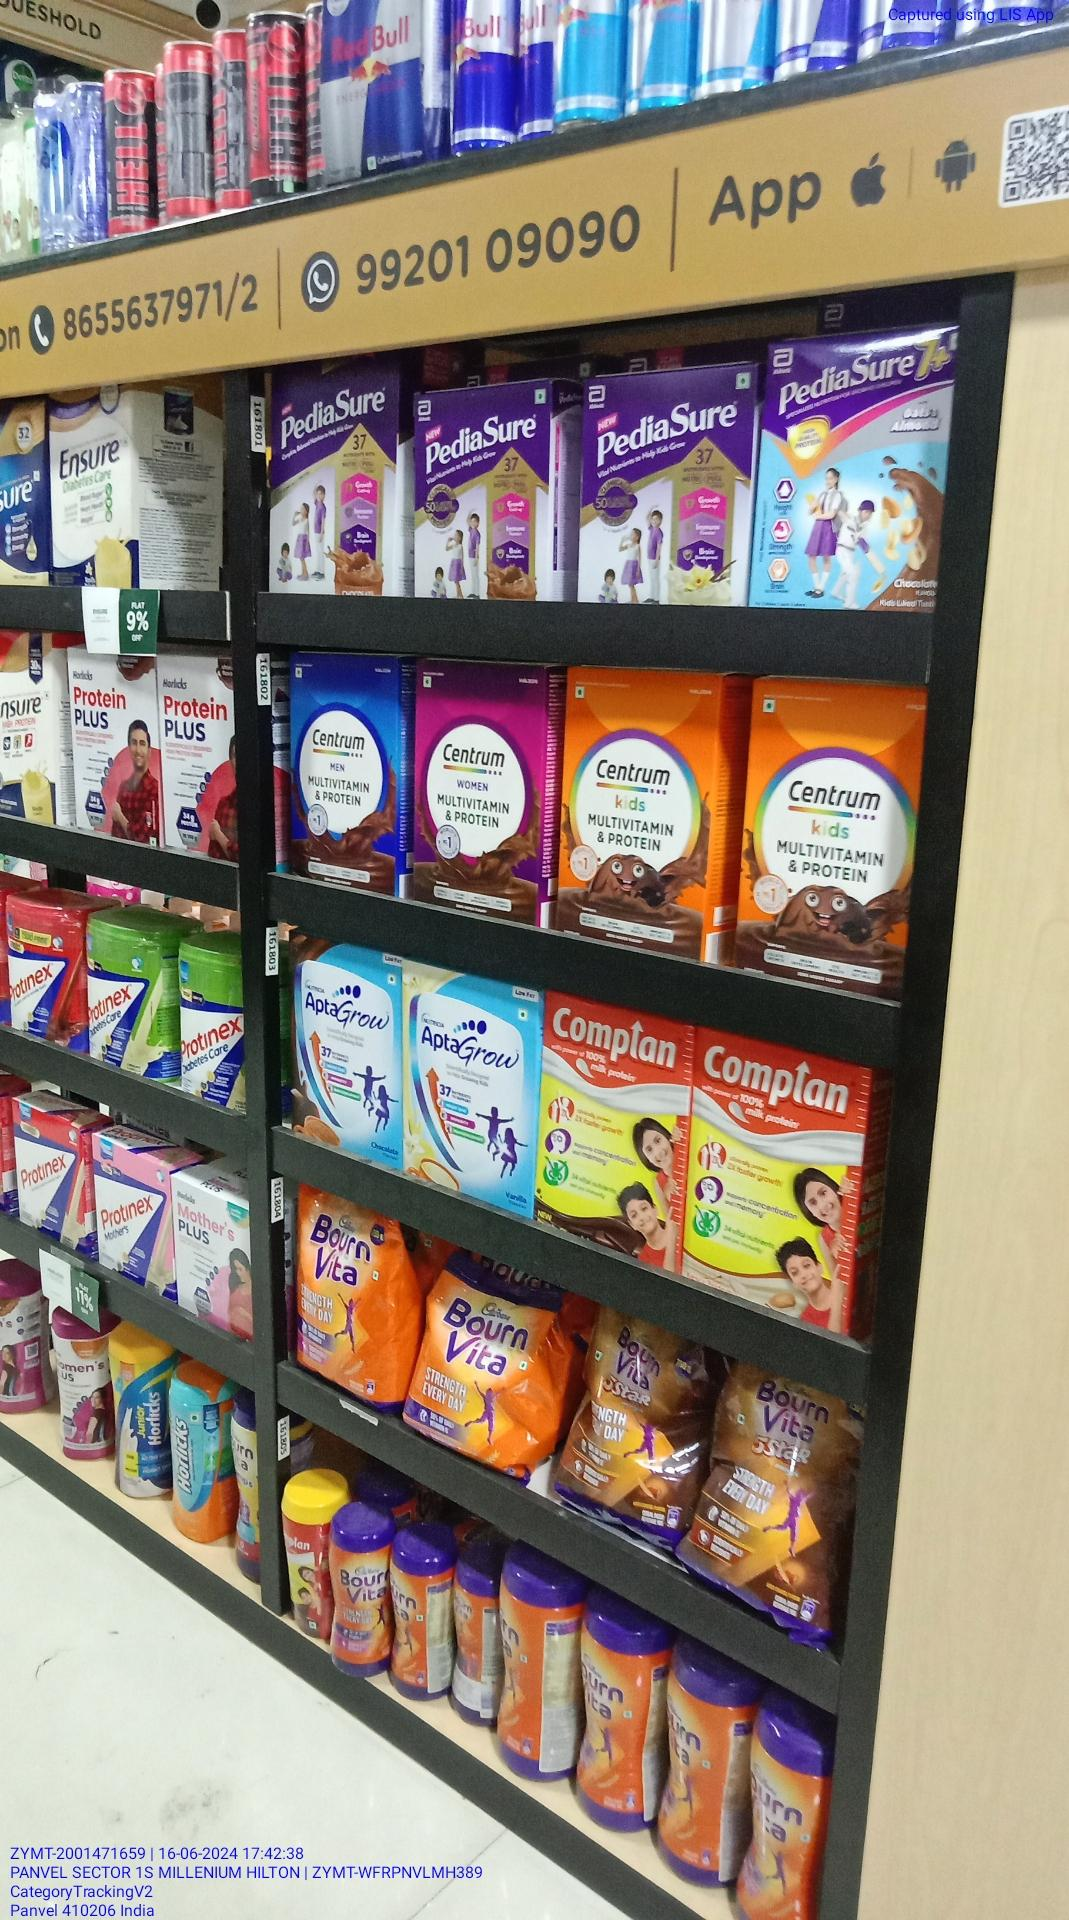HORLICKS_JUNIOR_VANILLA_500_GM_JAR: (113, 1323, 172, 1498)
HORLICKS_LITE_REGULAR_MALT_500_GM_JAR: (175, 1359, 225, 1540)
PEDIASURE_7_PLUS_CHOCOLATE_400_G_PACK: (758, 326, 944, 612)
PEDIASURE_CHOCOLATE_500_G_PACK: (413, 387, 554, 596), (275, 362, 400, 592)
PEDIASURE_VANILLA_500_G_PACK: (588, 368, 745, 599)
PROTINEX_CHOCOLATE_400_G_JAR: (8, 891, 83, 1046)
